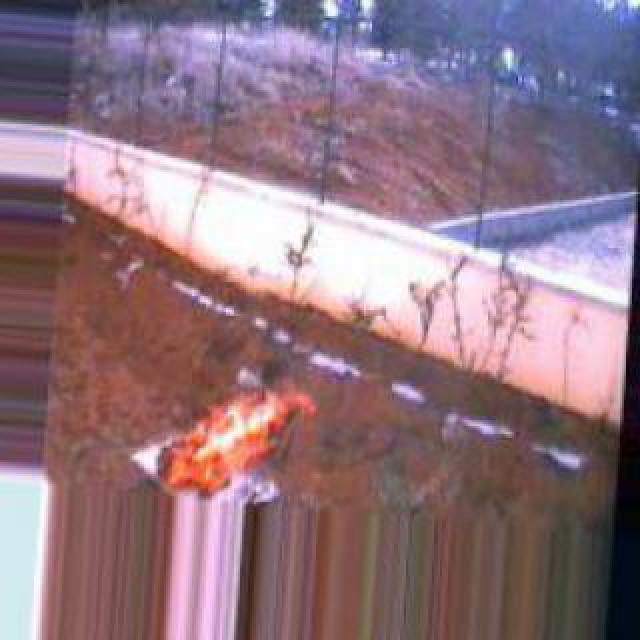Fire: (150, 360, 310, 496)
